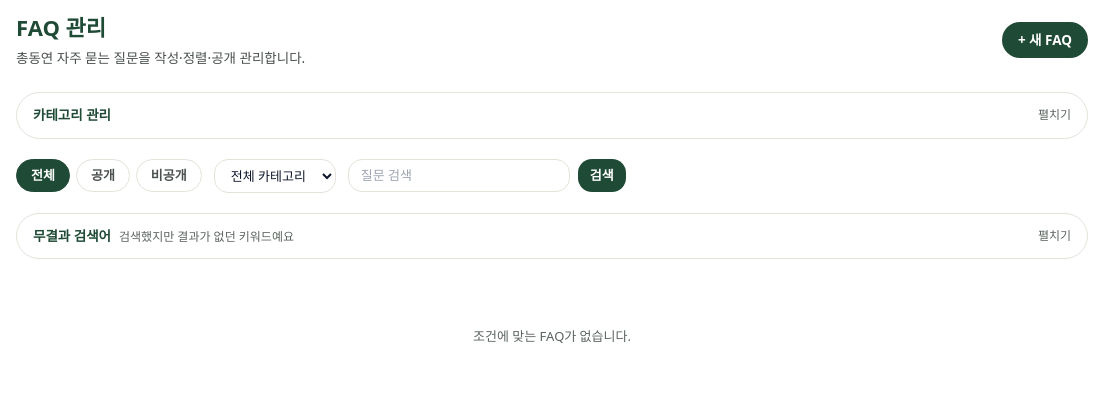
AdminFaqListPage › 무결과 검색어가 없으면 빈 상태 문구가 노출된다
Click the button "무결과 검색어 검색했지만 결과가 없던 키워드예요 펼치기": point(72, 236) top-left (17, 214), bottom-right (1087, 258)
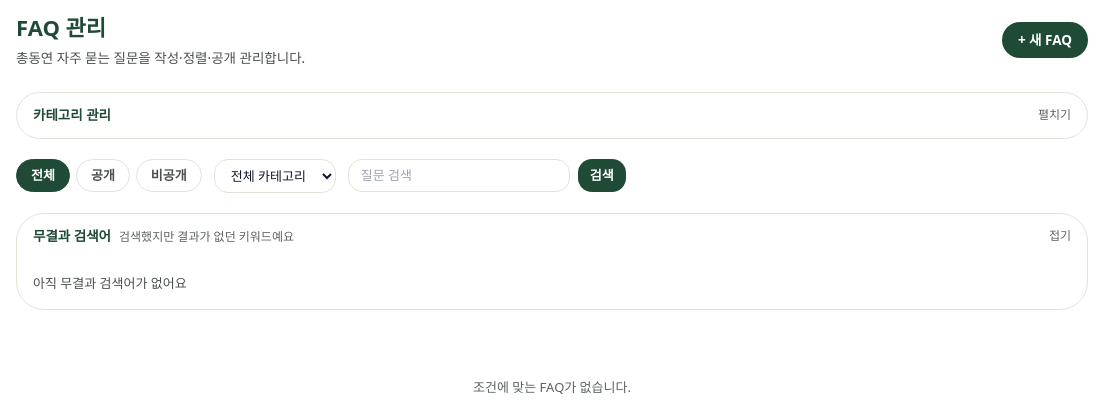
Now the text "아직 무결과 검색어가 없어요" is shown, box top-left (33, 274), bottom-right (187, 292)
